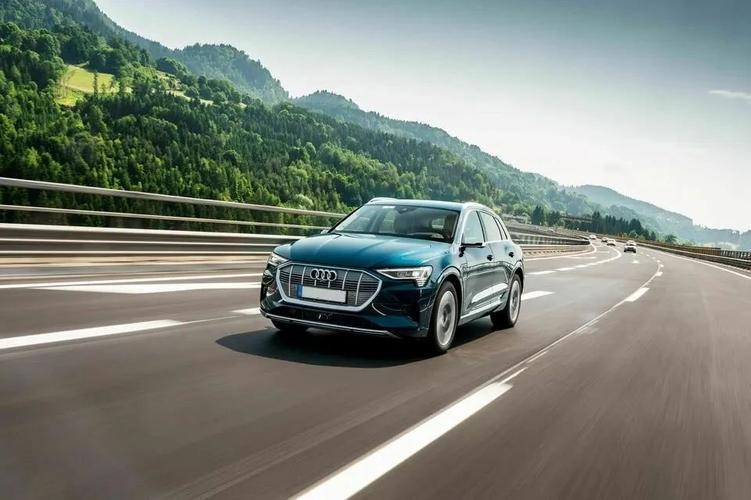汽车: (252, 180, 546, 353)
